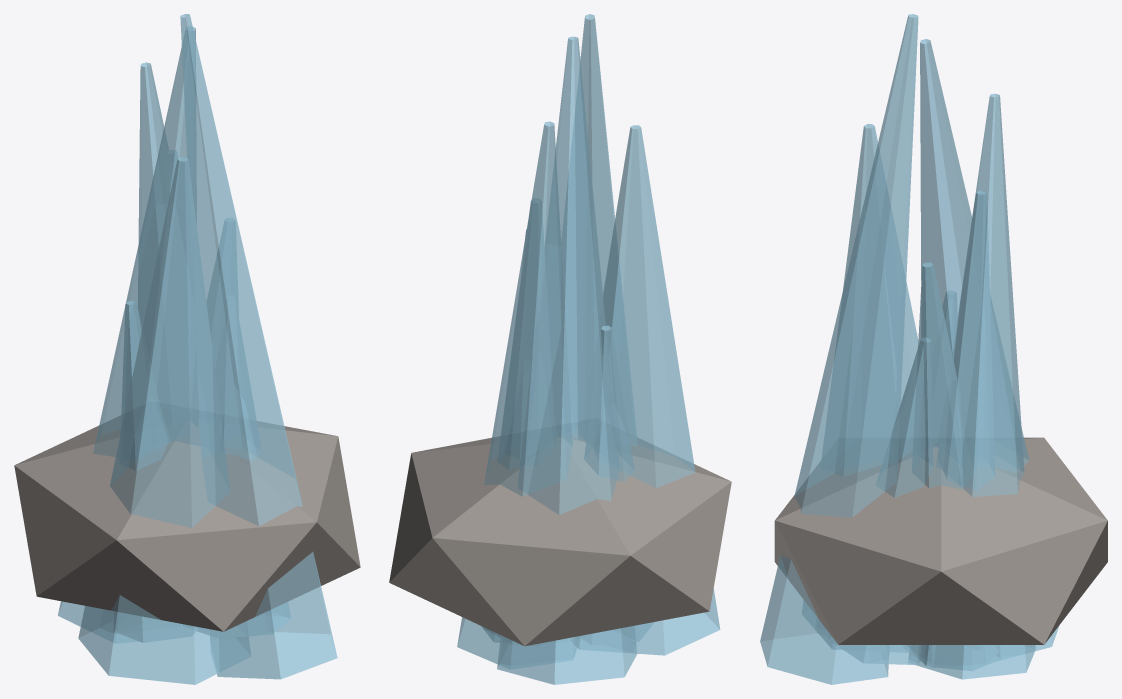
File: crystal.glb
3 views of the same model, side by side, from view 1: azimuth 30°, elevation 25°; view 2: azimuth 150°, elevation 25°; view 3: azimuth 270°, elevation 25° (orthographic).
Visible parts, largest first — view 1: Crystal; view 2: Crystal; view 3: Crystal.
Part boxes in pixels (x1,y1,x2,y2): Crystal: [14, 14, 360, 684]; Crystal: [389, 14, 731, 684]; Crystal: [760, 14, 1107, 684].
Size of the model in its own units: 0.6261 by 1.25 by 0.6218.
